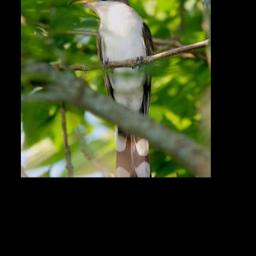Cuckoo: (68, 0, 157, 177)
